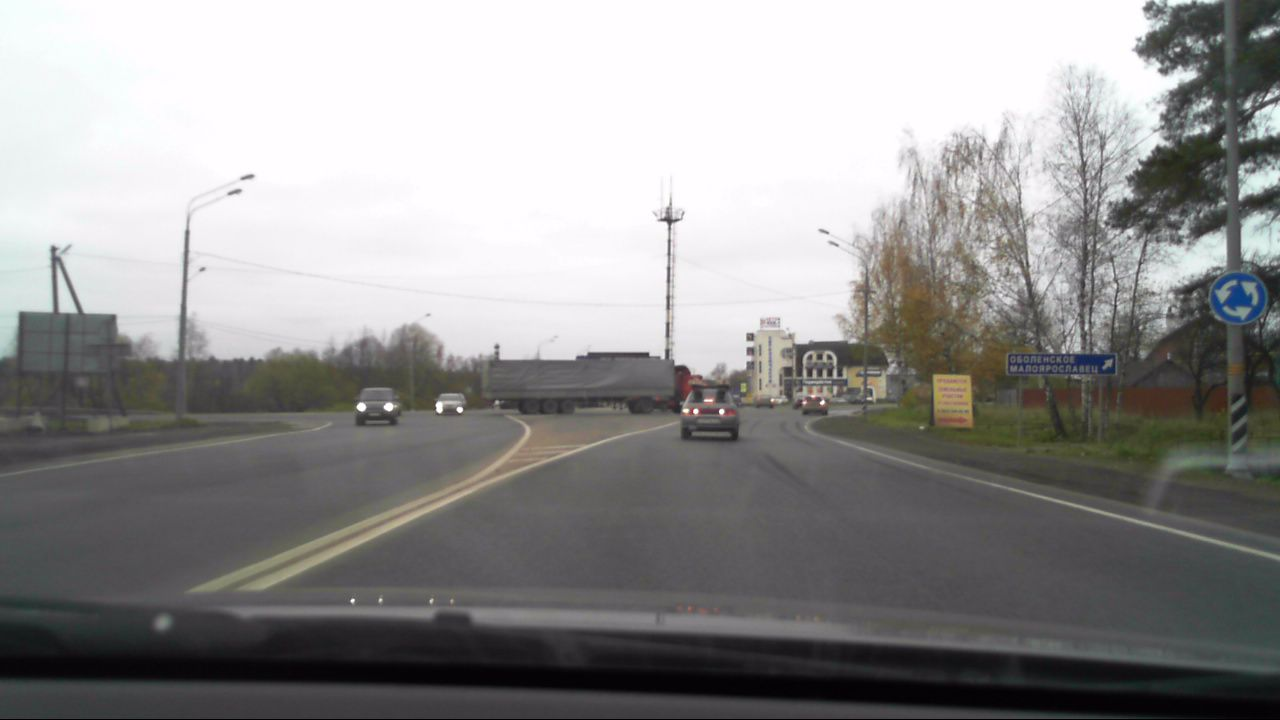Round-About: (1204, 268, 1269, 328)
